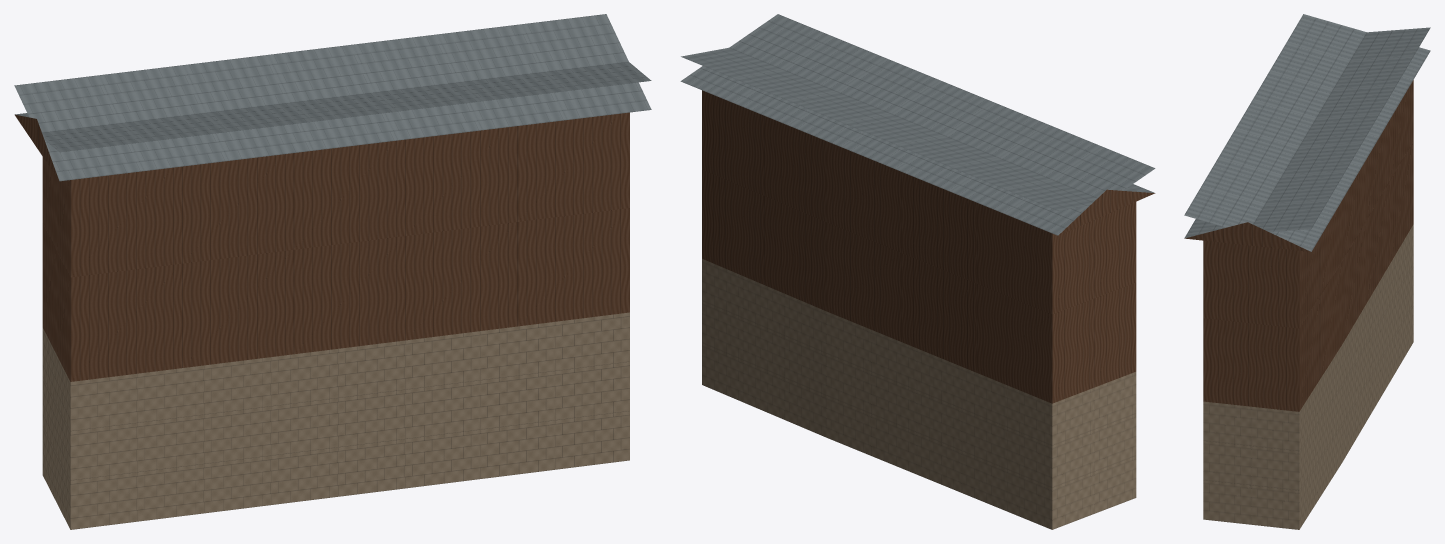
The model's file is bld_c22_-43_573.gltf.
3 views of the same model, side by side, from view 1: azimuth 30°, elevation 25°; view 2: azimuth 150°, elevation 25°; view 3: azimuth 270°, elevation 25° (orthographic). The views are drawn at different scales.
Visible parts, largest first — view 1: bld_c22_-43_573; view 2: bld_c22_-43_573; view 3: bld_c22_-43_573.
Part boxes in pixels (<box>): bld_c22_-43_573: <box>14,14,651,529</box>; bld_c22_-43_573: <box>680,14,1155,529</box>; bld_c22_-43_573: <box>1184,14,1430,529</box>.
Size of the model in its own units: 19.91 by 13.3 by 9.66.
4 materials, 4 textured.
